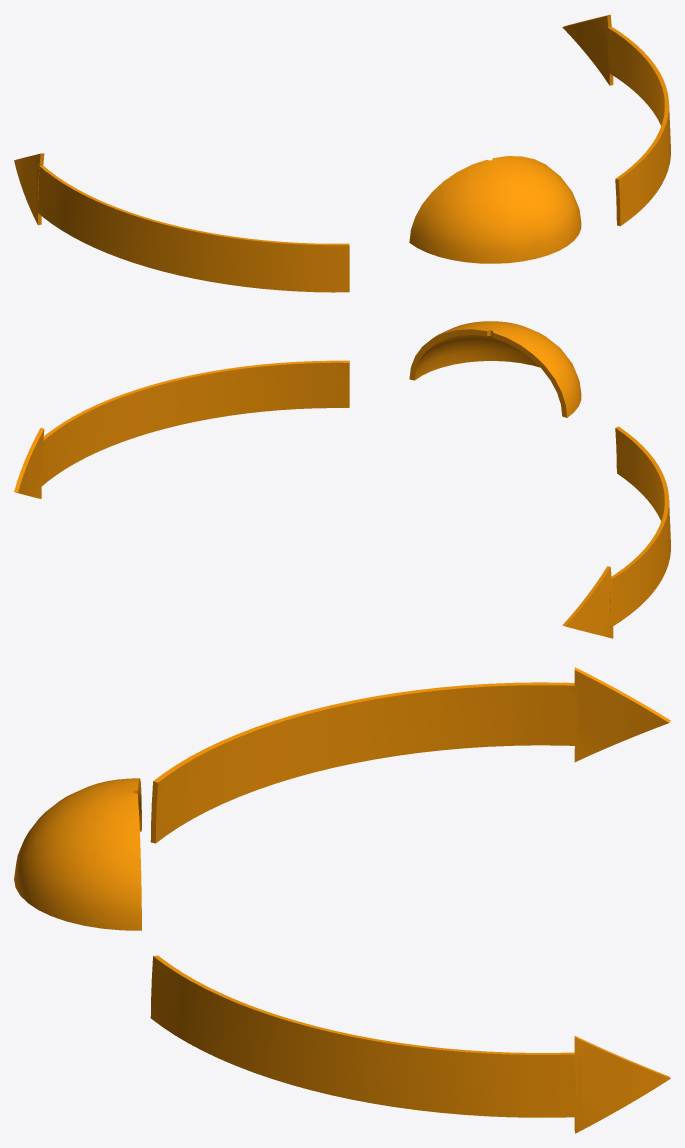
Rendered from EM_TrimYellow.obj.
3 renders of one model, top to bottom at view 1: azimuth 30°, elevation 25°; view 2: azimuth 150°, elevation 25°; view 3: azimuth 270°, elevation 25°, orthographic. The views are drawn at different scales.
Visible parts, largest first — view 1: EM_TrimYellow; view 2: EM_TrimYellow; view 3: EM_TrimYellow.
Part boxes in pixels (bbox=[...]): EM_TrimYellow: bbox=[14, 14, 670, 292]; EM_TrimYellow: bbox=[14, 321, 670, 638]; EM_TrimYellow: bbox=[14, 667, 670, 1133].
Bounding box in the file's own units: 7.89 × 1.52 × 5.84.
